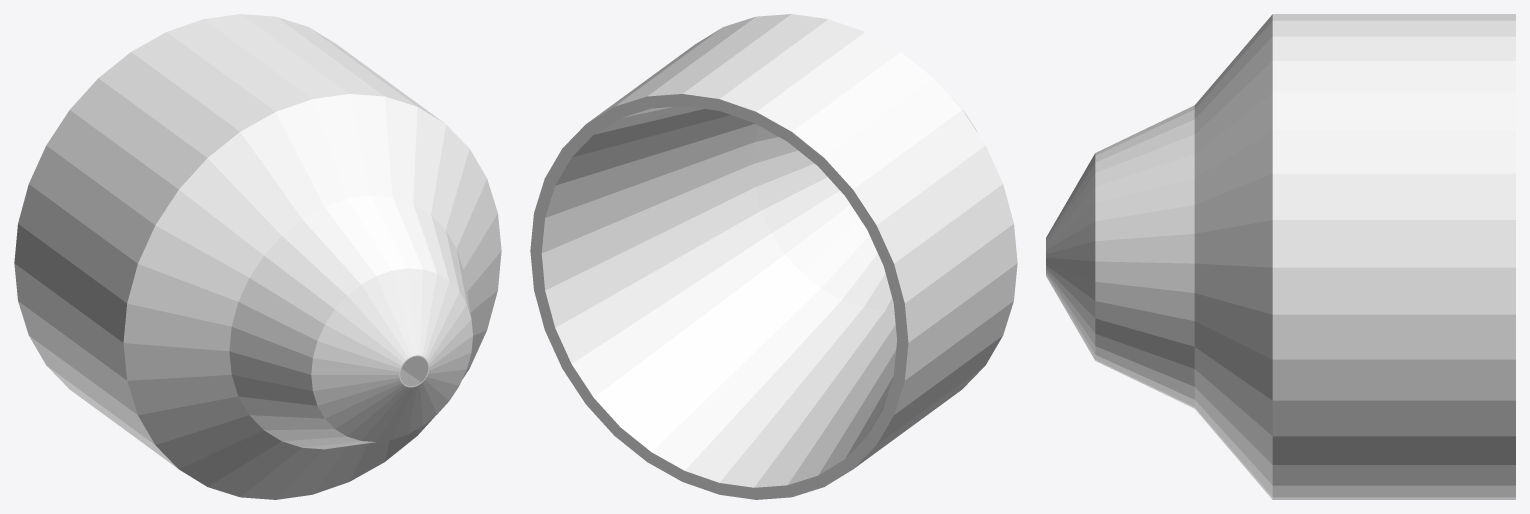
File: Fan.obj
3 views of the same model, side by side, from view 1: azimuth 30°, elevation 25°; view 2: azimuth 150°, elevation 25°; view 3: azimuth 270°, elevation 25° (orthographic). The views are drawn at different scales.
Parts seen in each view (by area): view 1: 円柱; view 2: 円柱; view 3: 円柱.
Part boxes in pixels (x1=…): 円柱: x1=14, y1=14, x2=501, y2=499; 円柱: x1=530, y1=14, x2=1017, y2=499; 円柱: x1=1046, y1=14, x2=1515, y2=499.
Bounding box in the file's own units: 2 × 2 × 1.93.
1 material, 1 textured.
